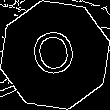O_S: (28, 25, 82, 85)
